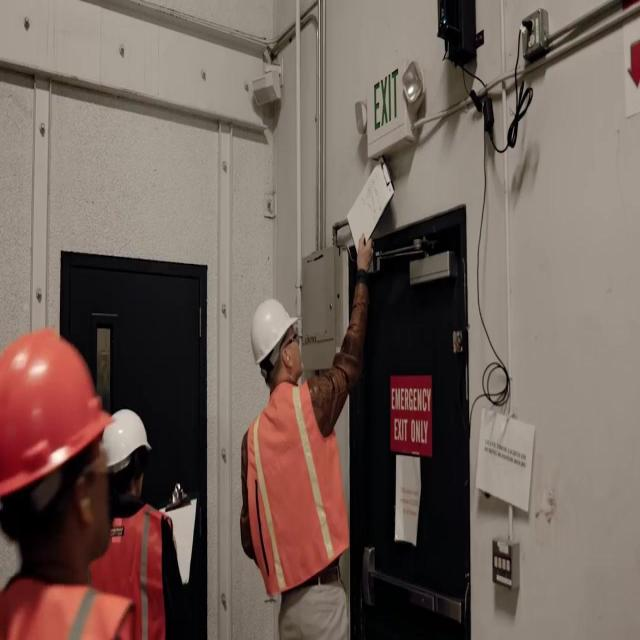Vest: (244, 384, 350, 598), (89, 504, 173, 639), (0, 580, 138, 639)
